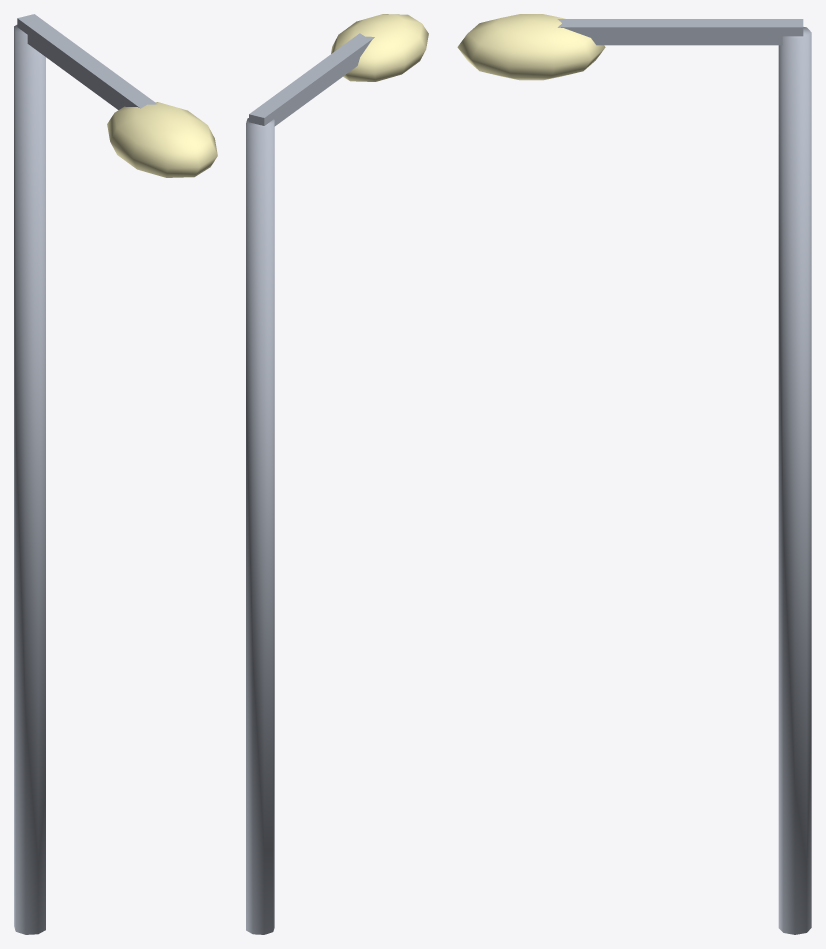
The model's file is Prop_StreetLamp.fbx.
3 renders of one model, left to right at view 1: azimuth 30°, elevation 25°; view 2: azimuth 150°, elevation 25°; view 3: azimuth 270°, elevation 25°, orthographic. The views are drawn at different scales.
Visible parts, largest first — view 1: Prop_StreetLamp; view 2: Prop_StreetLamp; view 3: Prop_StreetLamp.
Boxes of the visible parts, box(x1,y1,x2,y2) form: Prop_StreetLamp: box(14, 14, 217, 934); Prop_StreetLamp: box(246, 14, 428, 934); Prop_StreetLamp: box(457, 14, 811, 934).
Size of the model in its own units: 0.5706 by 6.08 by 2.15.
